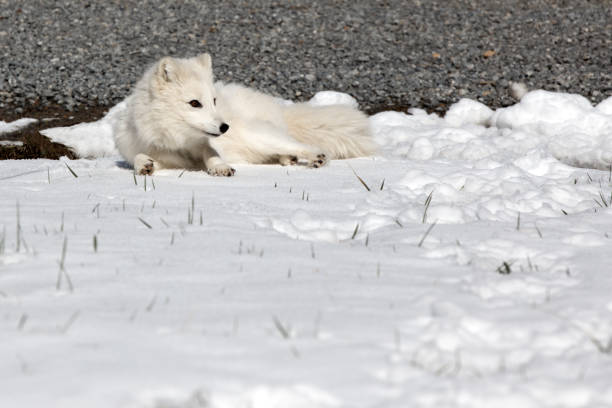arcticfox: (170, 74, 234, 154)
